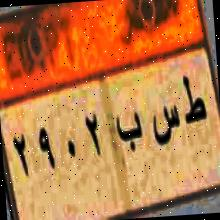0: (64, 131, 80, 175)
2: (10, 124, 32, 186), (84, 107, 104, 166)
9: (36, 120, 59, 185)
Taa: (178, 70, 212, 138)
baa: (113, 108, 145, 158)
seen: (150, 96, 182, 161)
